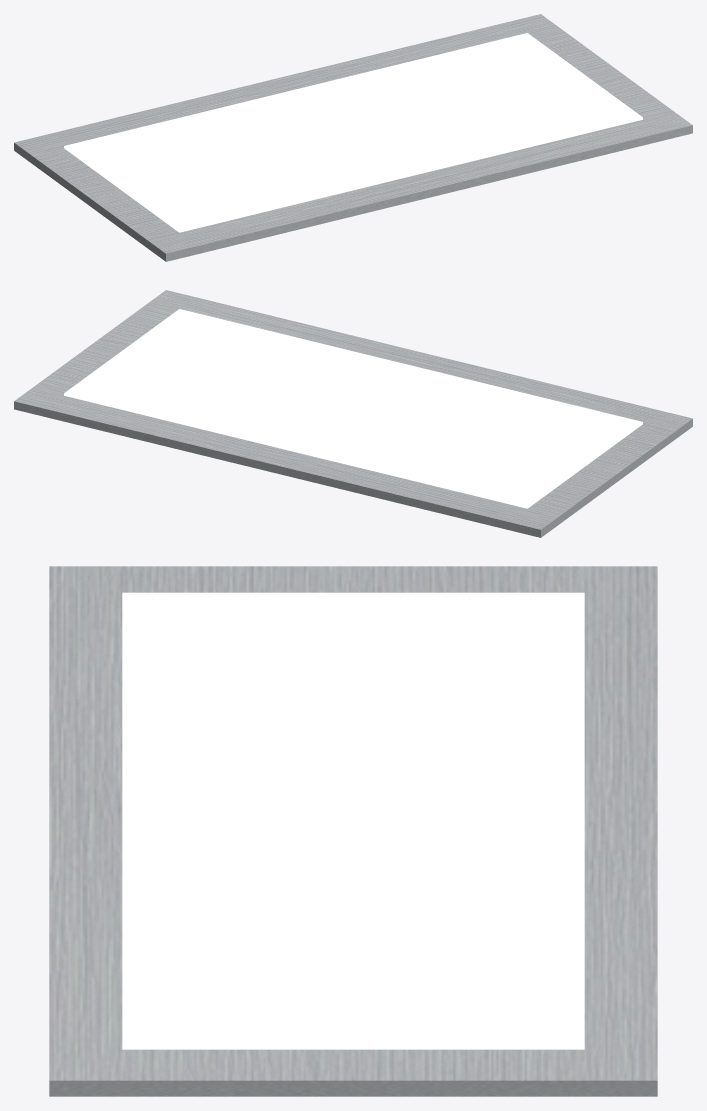
The model's file is ceiling_light.glb.
3 views of the same model, one above another, from view 1: azimuth 30°, elevation 25°; view 2: azimuth 150°, elevation 25°; view 3: azimuth 270°, elevation 25° (orthographic). The views are drawn at different scales.
Visible parts, largest first — view 1: DiffuserLens, Troffer metal housing; view 2: DiffuserLens, Troffer metal housing; view 3: DiffuserLens, Troffer metal housing.
Boxes of the visible parts, <box> form: DiffuserLens: <box>64,33,642,232</box>; Troffer metal housing: <box>14,14,692,261</box>; DiffuserLens: <box>64,309,642,508</box>; Troffer metal housing: <box>14,290,692,537</box>; DiffuserLens: <box>122,592,584,1049</box>; Troffer metal housing: <box>49,566,657,1096</box>.
Size of the model in its own units: 1.5 by 0.028 by 0.75.
2 materials, 1 textured.
